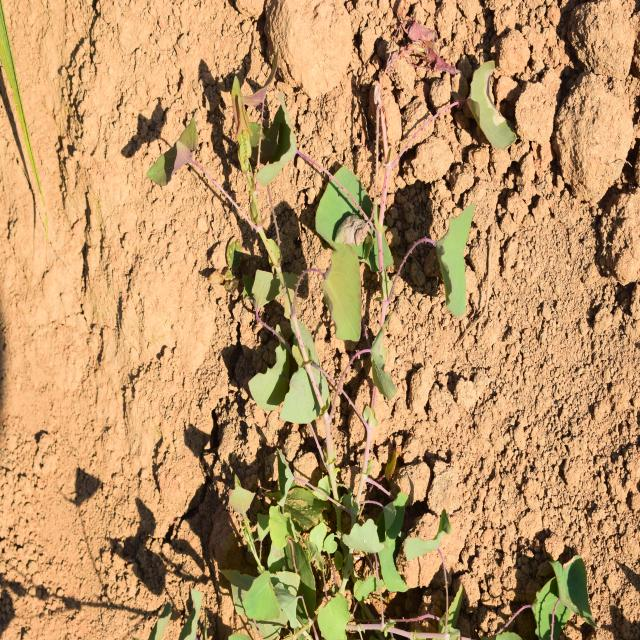Asiatic_Smartweed: (241, 238, 399, 467), (147, 81, 331, 248), (226, 478, 417, 633)
